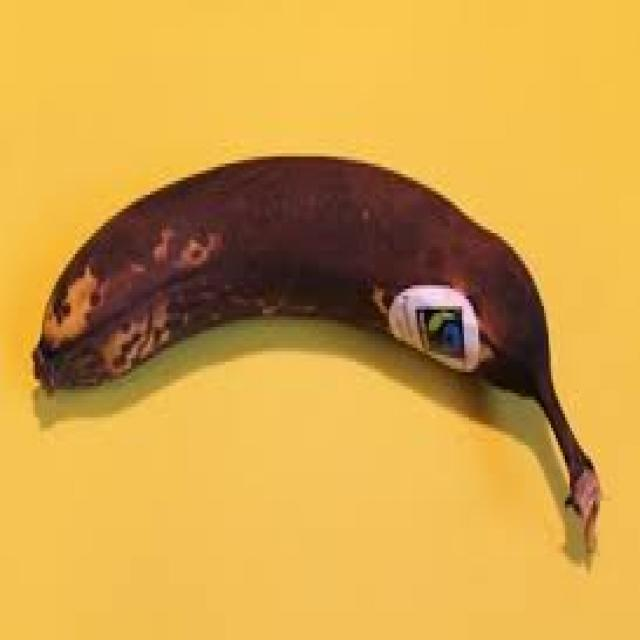organic waste: (30, 153, 598, 532)
